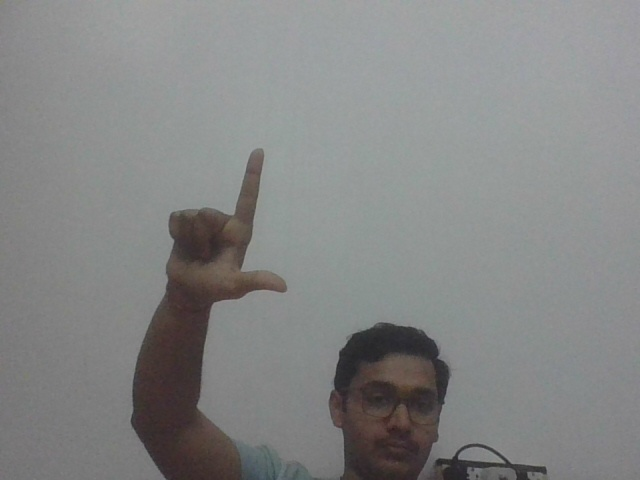L: (163, 143, 290, 303)
